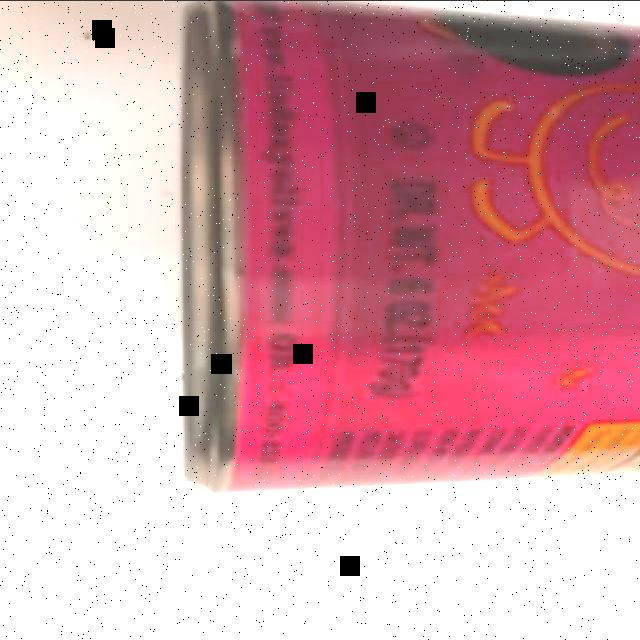can: (177, 0, 639, 494)
